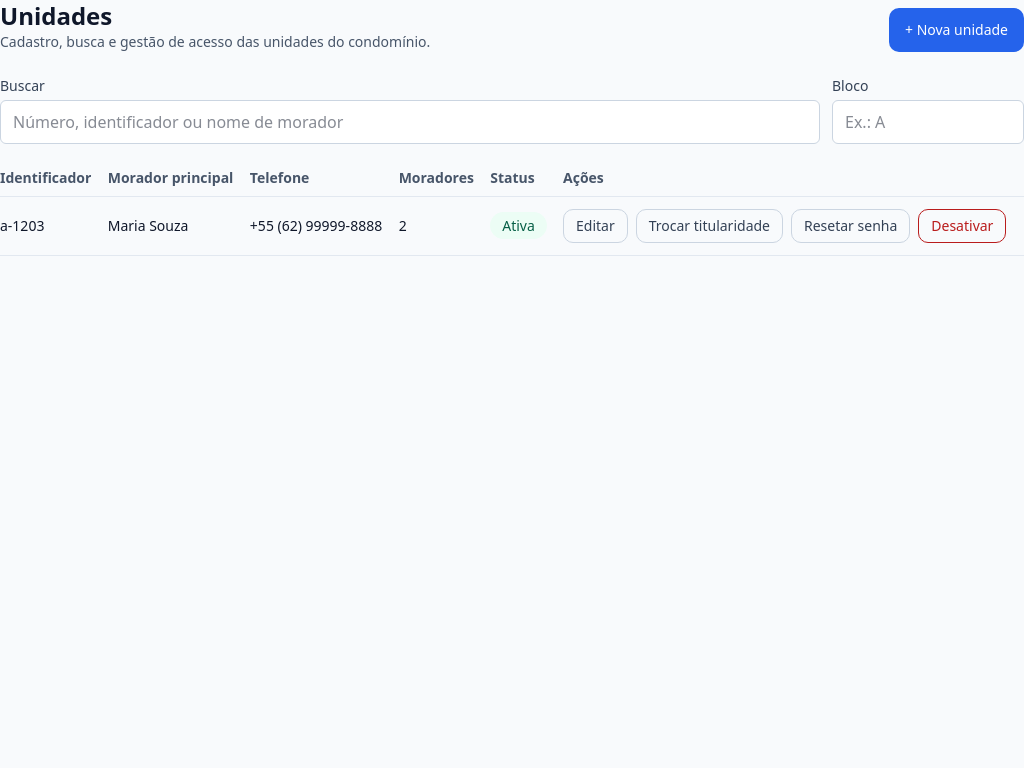
Test: UnitsListPage › resetar senha mostra o modal de credenciais uma única vez
Click the button "Resetar senha".
click(851, 226)  # box [791,209,910,243]
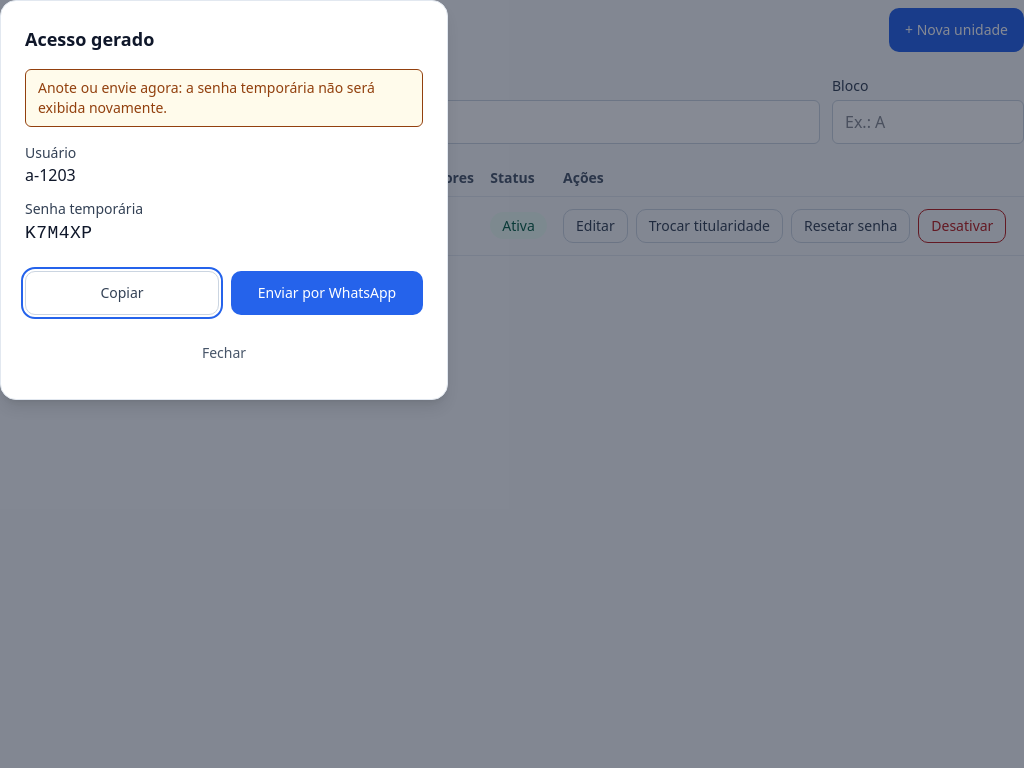
Expected: the text "K7M4XP" is shown, [25,223,92,243]
